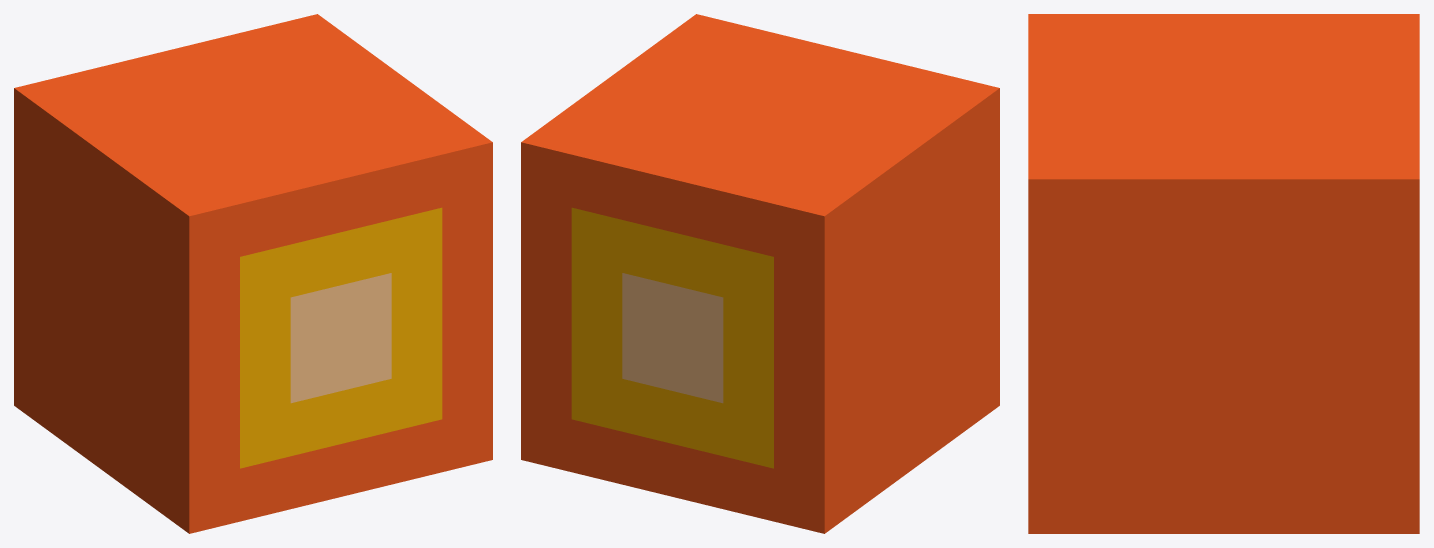
Rendered from explosion.obj.
3 renders of one model, left to right at view 1: azimuth 30°, elevation 25°; view 2: azimuth 150°, elevation 25°; view 3: azimuth 270°, elevation 25°, orthographic. The views are drawn at different scales.
Size of the model in its own units: 12 by 12 by 12.
Materials: 1 (1 with a texture image).
